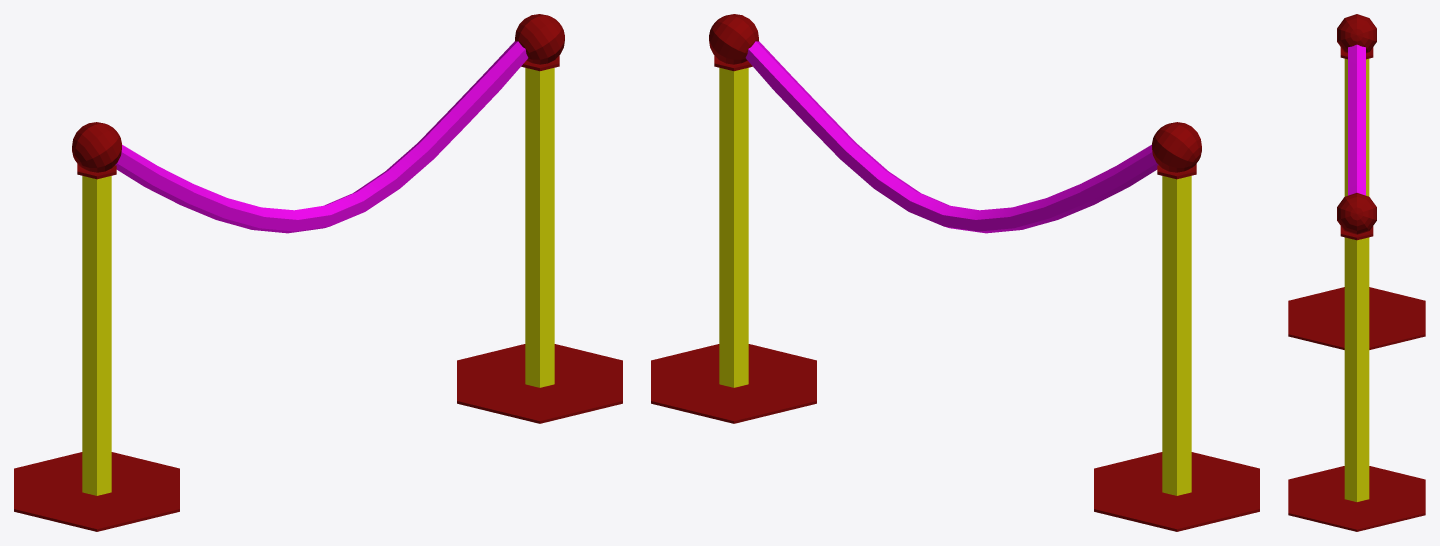
The model's file is velvetrope.fbx.
3 renders of one model, left to right at view 1: azimuth 30°, elevation 25°; view 2: azimuth 150°, elevation 25°; view 3: azimuth 270°, elevation 25°, orthographic. The views are drawn at different scales.
Visible parts, largest first — view 1: velvetrope; view 2: velvetrope; view 3: velvetrope.
Part boxes in pixels (x1,y1,x2,y2): velvetrope: [14, 14, 622, 531]; velvetrope: [651, 14, 1259, 531]; velvetrope: [1288, 14, 1425, 531].
Bounding box in the file's own units: 61.86 × 35.64 × 14.6.
